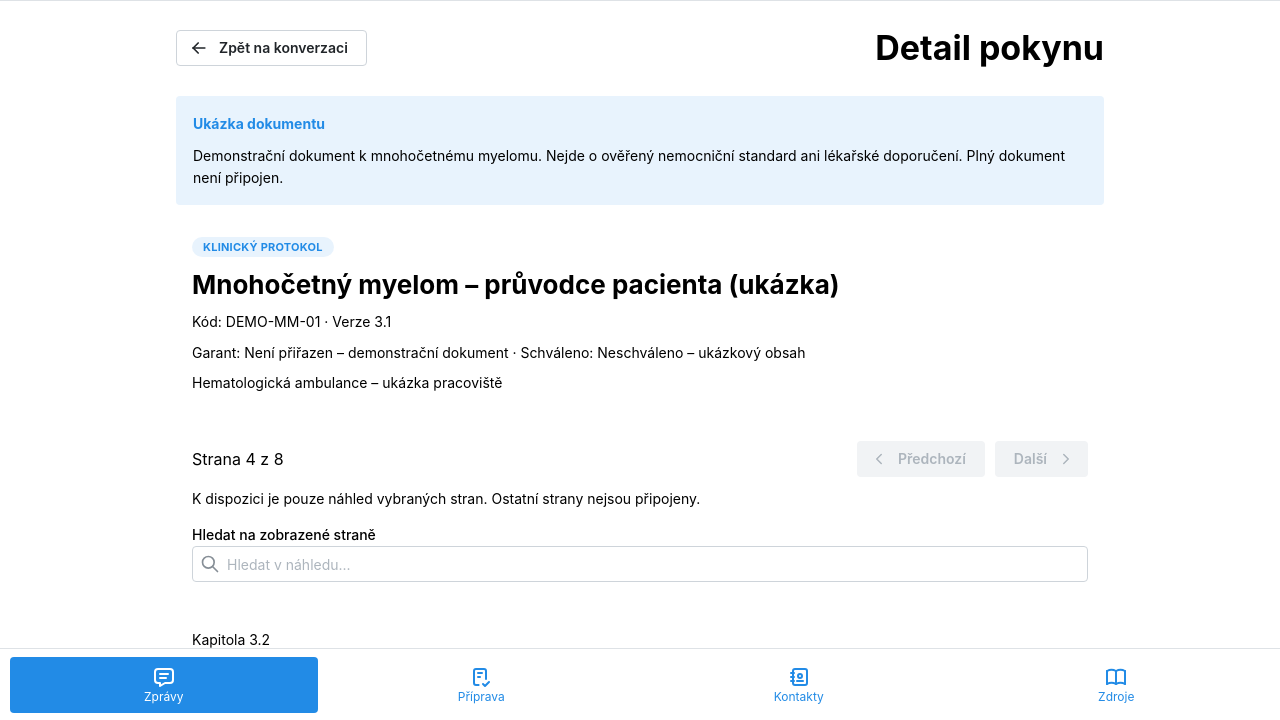
it: application routing › opens the document directly and returns to chat through the router
Expected: the heading "Detail pokynu" is shown, [875, 26, 1104, 70]
What coordinates should you click on to do the following:
click the button "Zpět na konverzaci"
I would click on:
 (271, 48)
Its box is [176, 30, 367, 66].
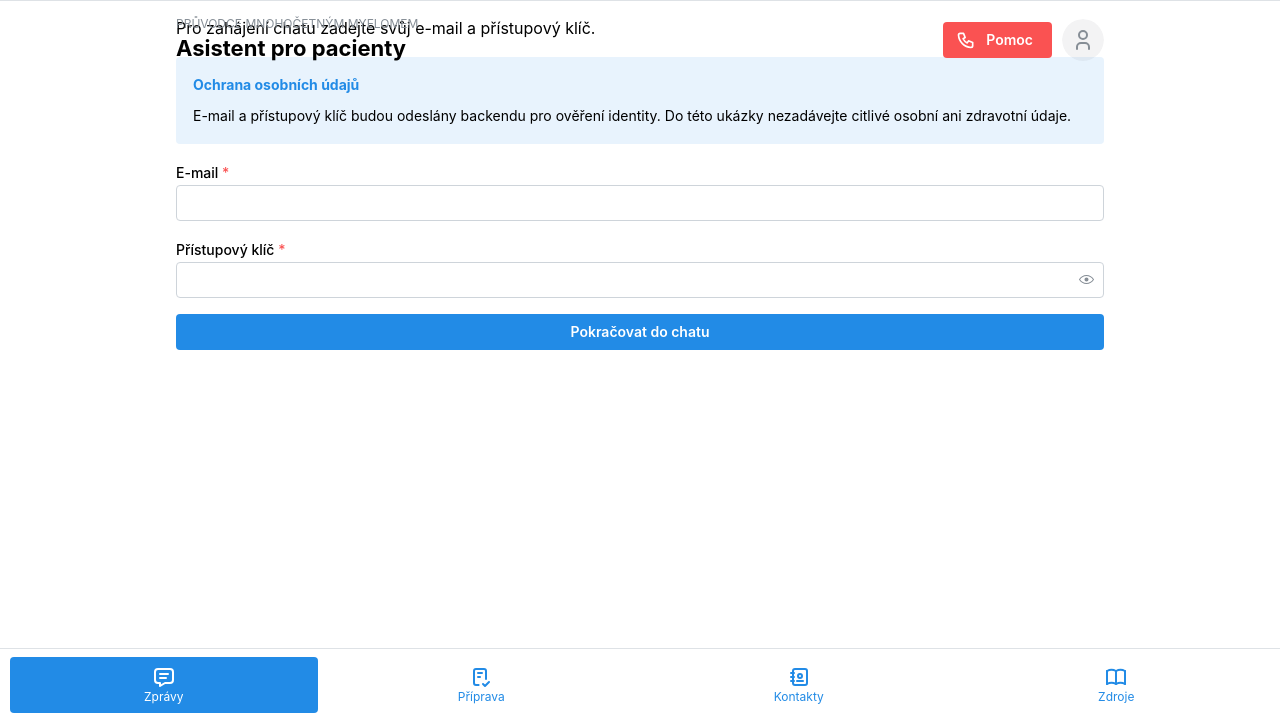
Now the field labelled "E-mail" is shown, box [176, 185, 1104, 221]
